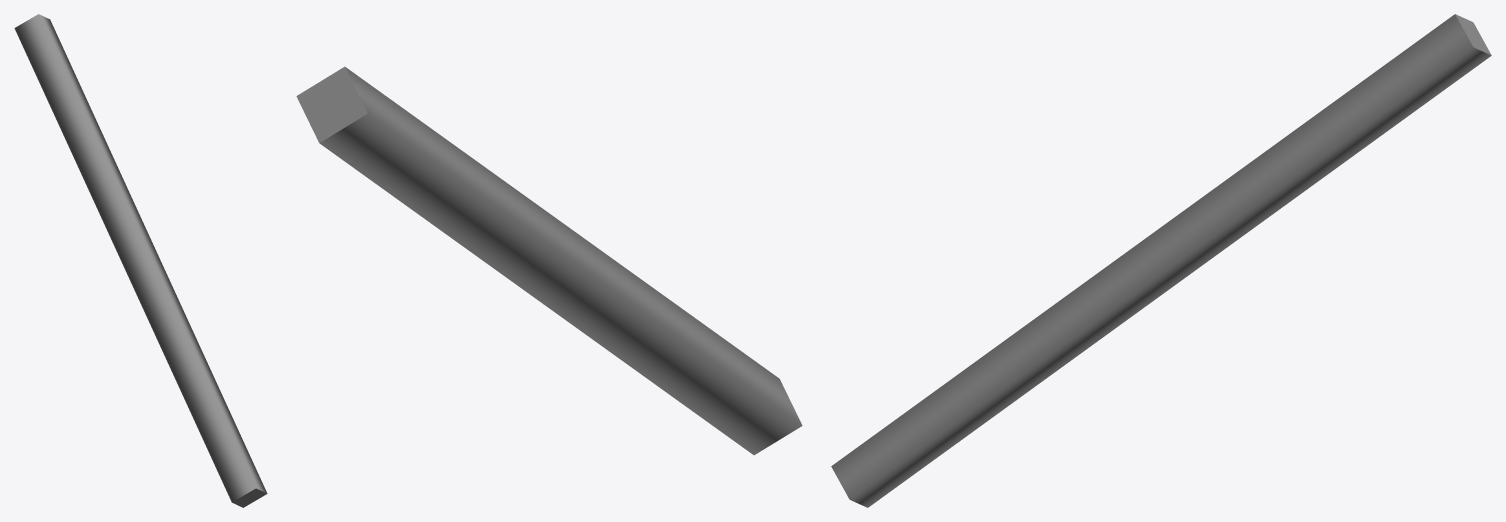
File: SW_ENV_Railing_StairWall_03.fbx
3 renders of one model, left to right at view 1: azimuth 30°, elevation 25°; view 2: azimuth 150°, elevation 25°; view 3: azimuth 270°, elevation 25°, orthographic. The views are drawn at different scales.
Parts seen in each view (by area): view 1: SW_ENV_Railing_StairWall_03; view 2: SW_ENV_Railing_StairWall_03; view 3: SW_ENV_Railing_StairWall_03.
Boxes of the visible parts, <box> form: SW_ENV_Railing_StairWall_03: <box>14,14,267,507</box>; SW_ENV_Railing_StairWall_03: <box>296,66,802,455</box>; SW_ENV_Railing_StairWall_03: <box>831,14,1491,507</box>.
Size of the model in its own units: 0.0712 by 0.6552 by 0.7942.
